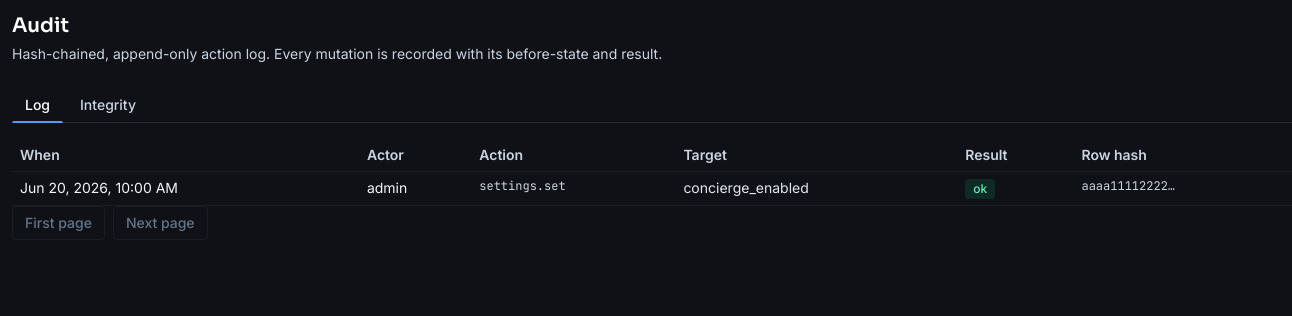
Test: Audit page › shows the Log table and an Integrity tab reporting an intact chain
This screenshot has width=1292, height=316.
Expected: the text "settings.set" is shown, [471, 172, 675, 206]
# Integrity tab reports the chain check.
Click the tab "Integrity" at (108,106), box [67, 88, 149, 123]
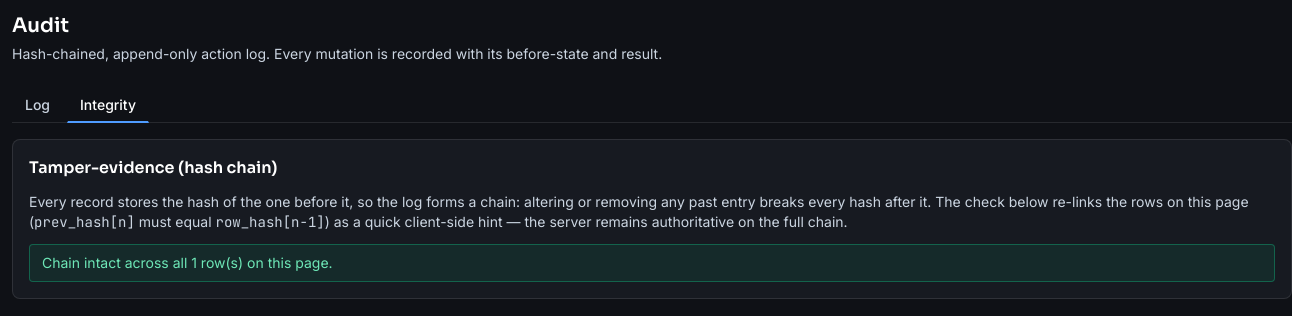
Now the text "Chain intact across all 1 row(s) on this page." is shown, box [29, 244, 1275, 282]
